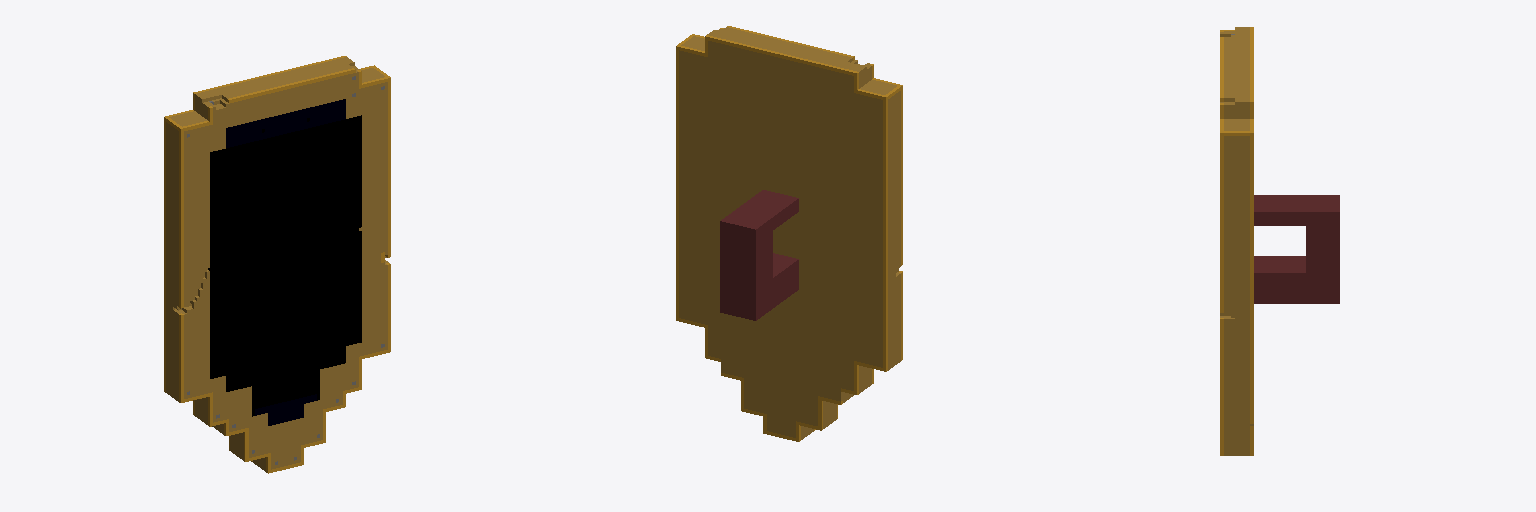
3 views of the same model, side by side, from view 1: azimuth 30°, elevation 25°; view 2: azimuth 150°, elevation 25°; view 3: azimuth 270°, elevation 25° (orthographic).
Visible parts, largest first — view 1: object 1; view 2: object 1; view 3: object 1.
Part boxes in pixels (left/top/right/bottom): object 1: left=164, top=56, right=390, bottom=473; object 1: left=676, top=26, right=902, bottom=441; object 1: left=1220, top=27, right=1339, bottom=455.
Size of the model in its own units: 6.5 by 11.3 by 3.2.
Materials: 1 (1 with a texture image).